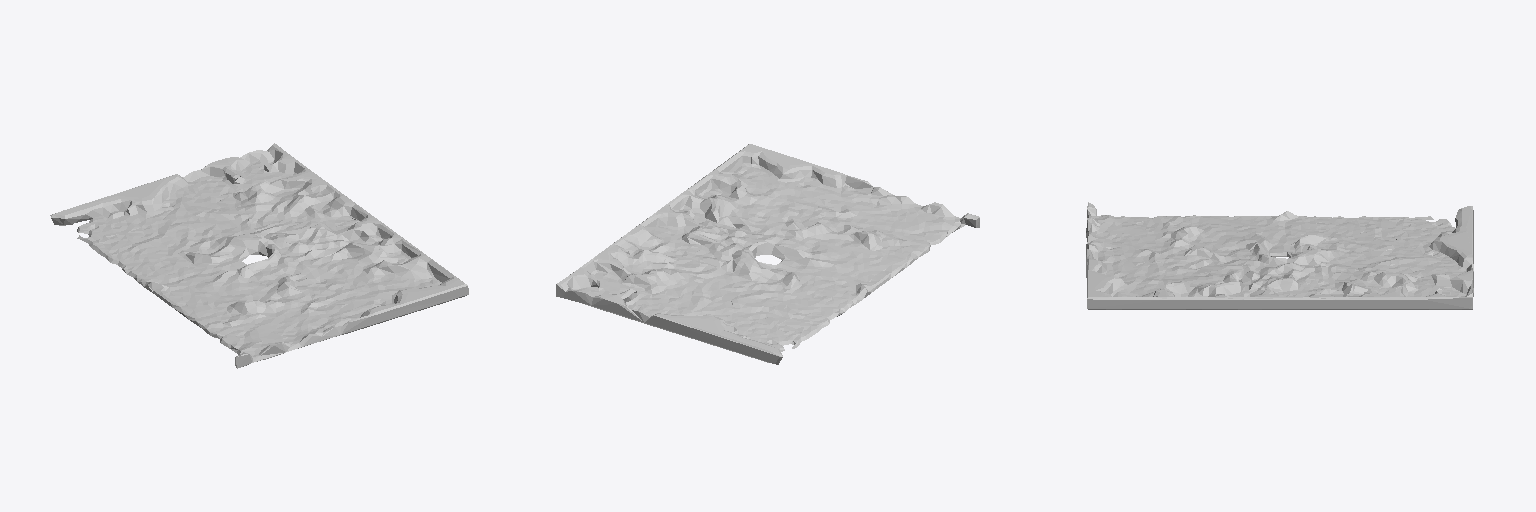
3 views of the same model, side by side, from view 1: azimuth 30°, elevation 25°; view 2: azimuth 150°, elevation 25°; view 3: azimuth 270°, elevation 25° (orthographic).
Visible parts, largest first — view 1: Liquid_Domain; view 2: Liquid_Domain; view 3: Liquid_Domain.
Boxes of the visible parts, box(x1,y1,x2,y2) form: Liquid_Domain: box(50, 143, 468, 368); Liquid_Domain: box(556, 144, 979, 364); Liquid_Domain: box(1086, 202, 1473, 309).
Bounding box in the file's own units: 117 × 13.84 × 168.